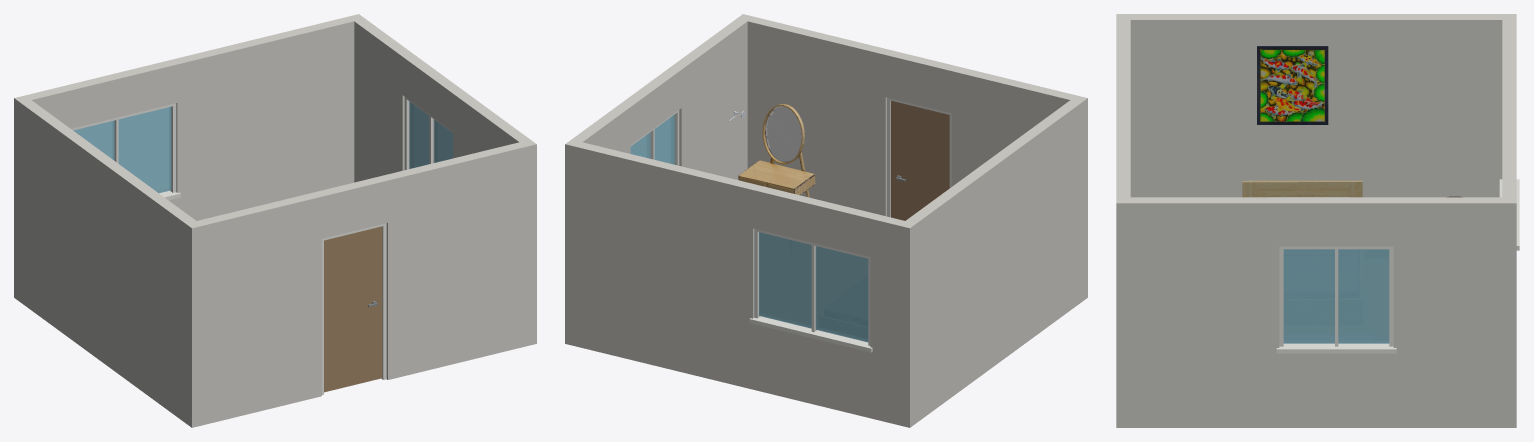
The model's file is holodeck.glb.
3 renders of one model, left to right at view 1: azimuth 30°, elevation 25°; view 2: azimuth 150°, elevation 25°; view 3: azimuth 270°, elevation 25°, orthographic. The views are drawn at different scales.
Parts seen in each view (by area): view 1: wall|scenesmith_020__R00|0, wall|scenesmith_020__R00|1, wall|scenesmith_020__R00|2, wall|scenesmith_020__R00|3, wall|scenesmith_020__R00|0 Door 0 | wood leaf, wall|scenesmith_020__R00|1 Window 0 | glazing, wall|scenesmith_020__R00|3 Window 0 | glazing, wall|scenesmith_020__R00|0 Door 0 | jamb, wall|scenesmith_020__R00|1 Window 0 | jamb, wall|scenesmith_020__R00|3 Window 0 | jamb; view 2: wall|scenesmith_020__R00|1, wall|scenesmith_020__R00|2, wall|scenesmith_020__R00|0, wall|scenesmith_020__R00|3, wall|scenesmith_020__R00|1 Window 0 | glazing, wall|scenesmith_020__R00|0 Door 0 | wood leaf, scenesmith_020__R00_3, wall|scenesmith_020__R00|1 Window 0 | jamb, wall|scenesmith_020__R00|3 Window 0 | glazing, wall|scenesmith_020__R00|0 Door 0 | jamb, wall|scenesmith_020__R00|3 Window 0 | jamb; view 3: wall|scenesmith_020__R00|3, wall|scenesmith_020__R00|2, wall|scenesmith_020__R00|3 Window 0 | glazing, wall|scenesmith_020__R00|1, wall|scenesmith_020__R00|0, scenesmith_020__R00_5, wall|scenesmith_020__R00|3 Window 0 | jamb, scenesmith_020__R00_0.
Boxes of the visible parts, box(x1,y1,x2,y2) form: wall|scenesmith_020__R00|0: box(192, 142, 525, 427); wall|scenesmith_020__R00|1: box(14, 14, 364, 301); wall|scenesmith_020__R00|2: box(20, 100, 202, 427); wall|scenesmith_020__R00|3: box(354, 18, 536, 346); wall|scenesmith_020__R00|0 Door 0 | wood leaf: box(324, 226, 382, 392); wall|scenesmith_020__R00|1 Window 0 | glazing: box(73, 106, 171, 193); wall|scenesmith_020__R00|3 Window 0 | glazing: box(409, 101, 453, 168); wall|scenesmith_020__R00|0 Door 0 | jamb: box(322, 223, 386, 394); wall|scenesmith_020__R00|1 Window 0 | jamb: box(71, 103, 180, 200); wall|scenesmith_020__R00|3 Window 0 | jamb: box(404, 97, 453, 169); wall|scenesmith_020__R00|1: box(565, 139, 916, 427); wall|scenesmith_020__R00|2: box(899, 95, 1087, 427); wall|scenesmith_020__R00|0: box(747, 16, 1076, 216); wall|scenesmith_020__R00|3: box(565, 14, 753, 346); wall|scenesmith_020__R00|1 Window 0 | glazing: box(759, 232, 868, 342); wall|scenesmith_020__R00|0 Door 0 | wood leaf: box(891, 100, 949, 220); scenesmith_020__R00_3: box(738, 103, 815, 197); wall|scenesmith_020__R00|1 Window 0 | jamb: box(749, 229, 872, 352); wall|scenesmith_020__R00|3 Window 0 | glazing: box(630, 114, 674, 164); wall|scenesmith_020__R00|0 Door 0 | jamb: box(887, 97, 951, 217); wall|scenesmith_020__R00|3 Window 0 | jamb: box(630, 110, 679, 165); wall|scenesmith_020__R00|3: box(1116, 197, 1502, 427); wall|scenesmith_020__R00|2: box(1116, 14, 1502, 197); wall|scenesmith_020__R00|3 Window 0 | glazing: box(1283, 249, 1389, 343); wall|scenesmith_020__R00|1: box(1502, 14, 1516, 427); wall|scenesmith_020__R00|0: box(1116, 20, 1130, 427); scenesmith_020__R00_5: box(1257, 46, 1328, 124); wall|scenesmith_020__R00|3 Window 0 | jamb: box(1276, 246, 1396, 353); scenesmith_020__R00_0: box(1242, 180, 1362, 197).
Size of the model in its own units: 4.73 by 2.61 by 4.23.
Materials: 12 (6 with a texture image).
